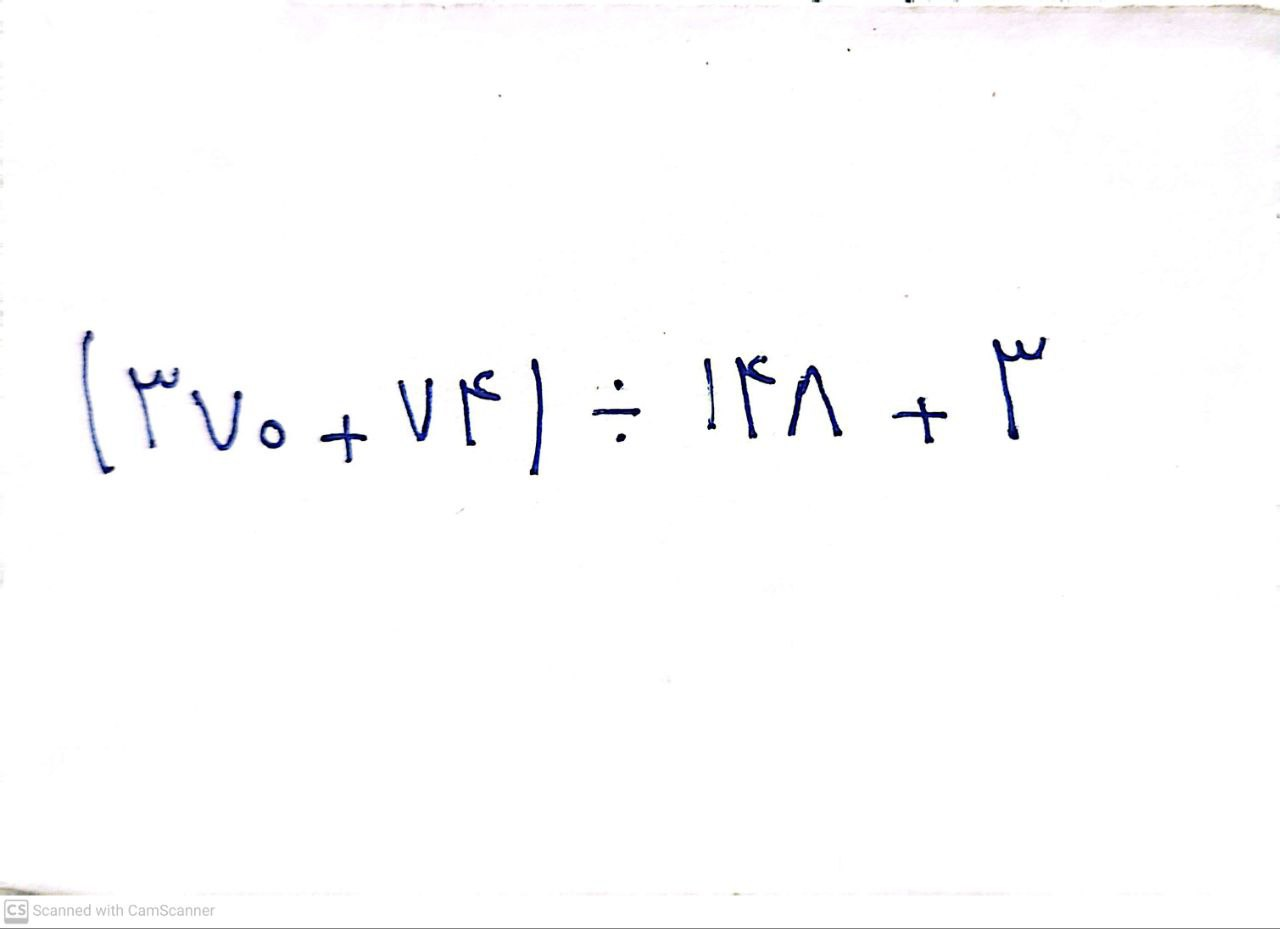character: (992, 337, 1045, 441), (81, 329, 114, 473), (129, 366, 181, 451), (787, 363, 843, 439), (194, 386, 247, 451), (734, 355, 774, 439), (457, 369, 499, 447), (589, 379, 639, 444), (893, 395, 955, 444), (399, 377, 443, 441), (317, 413, 368, 460), (530, 360, 543, 473), (701, 356, 717, 433), (257, 421, 286, 449)
